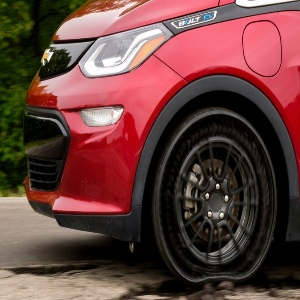tire: (149, 101, 276, 300)
